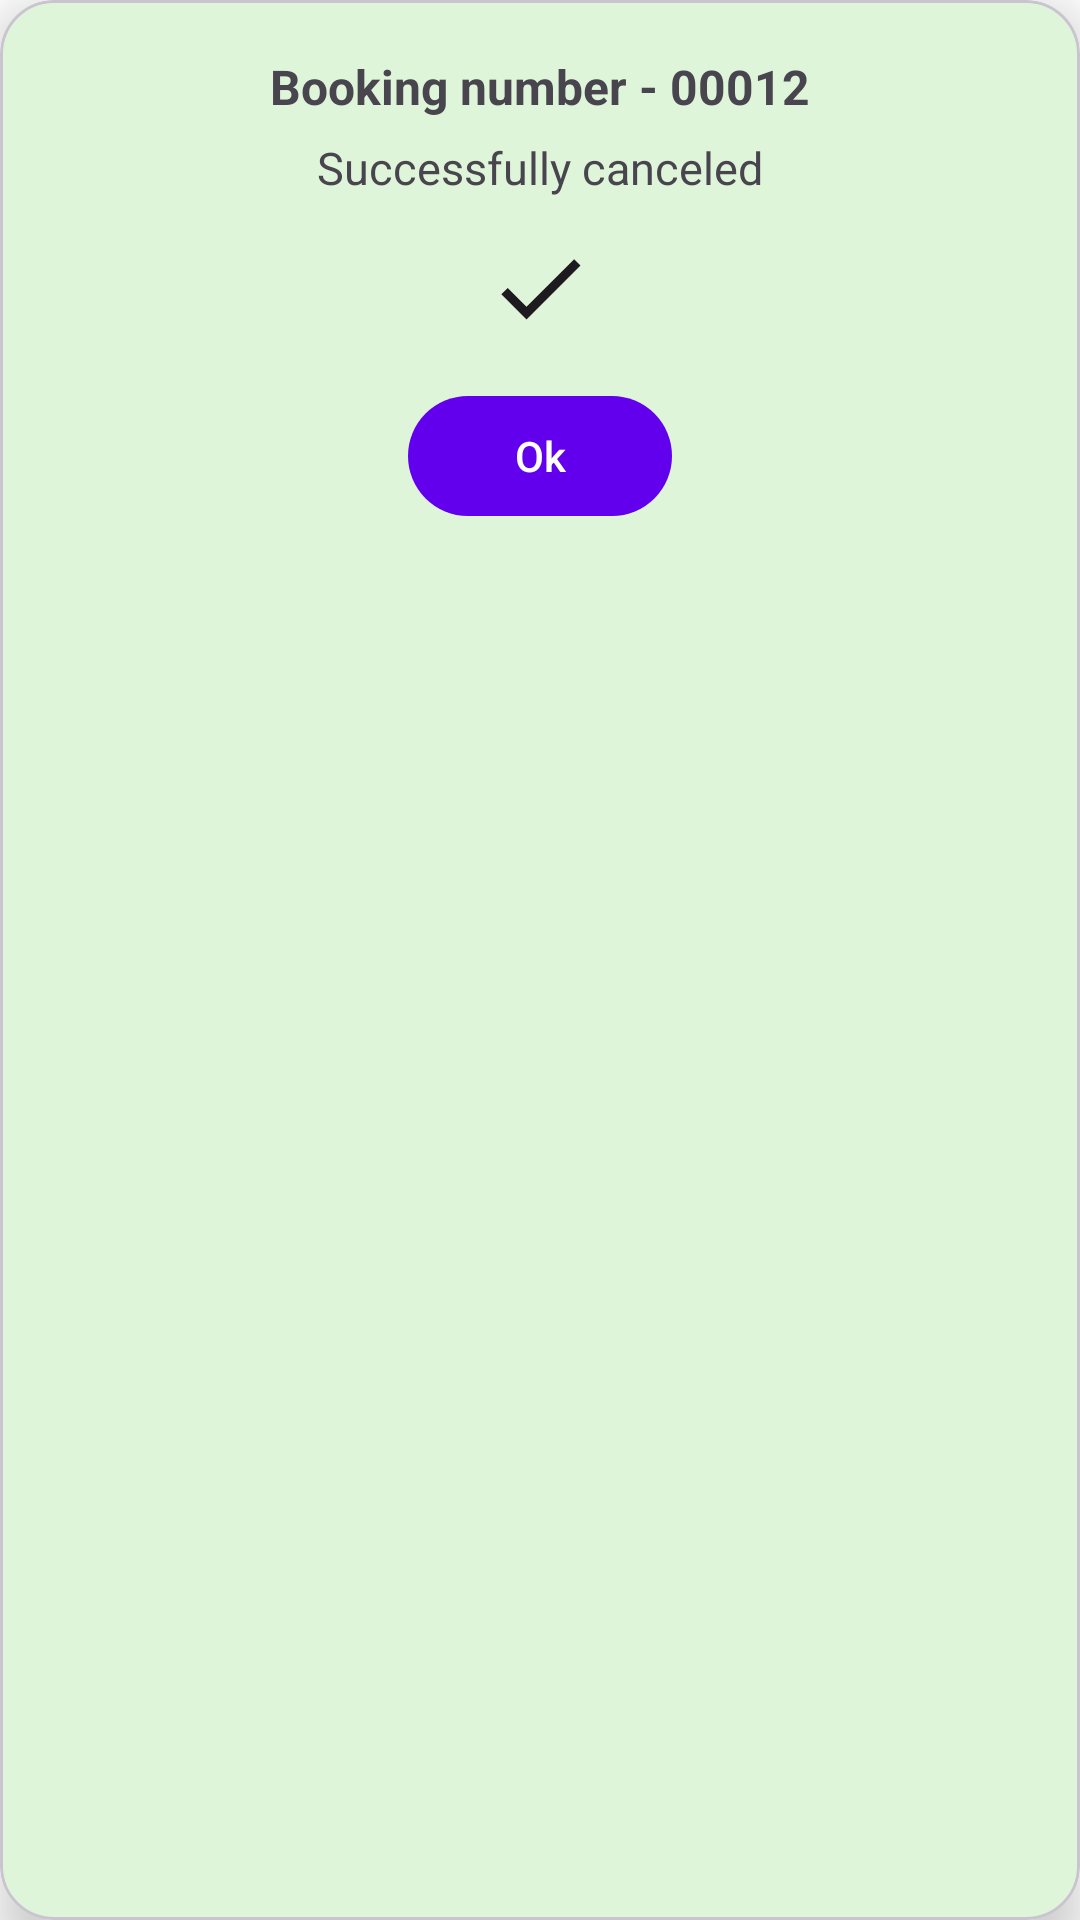

Screen size 1080 × 1920. Icon name, then its center in pixels as (x,y):
check: (541,289)
